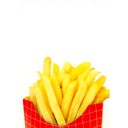frenchfries: (19, 58, 110, 118)
